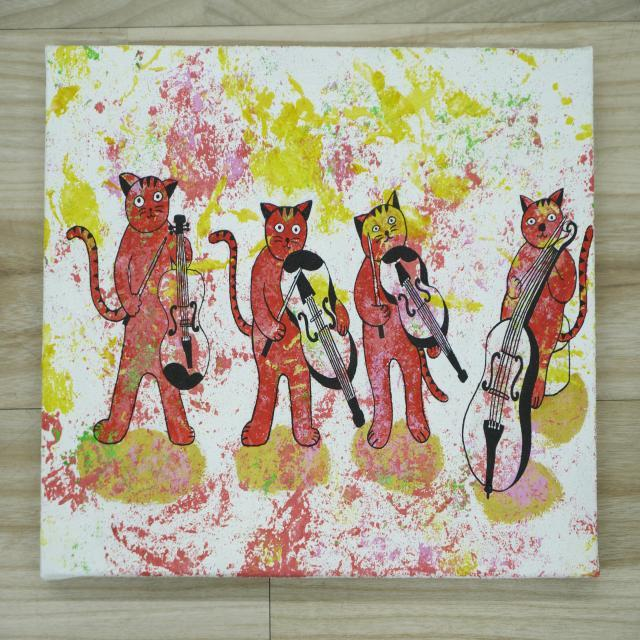painting: (41, 46, 598, 578)
